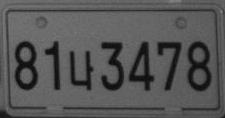1: (43, 40, 65, 90)
3: (100, 41, 125, 91)
4: (128, 41, 154, 91)
7: (156, 41, 182, 90)
8: (185, 40, 212, 92), (13, 40, 39, 90)
나: (68, 50, 93, 90)
